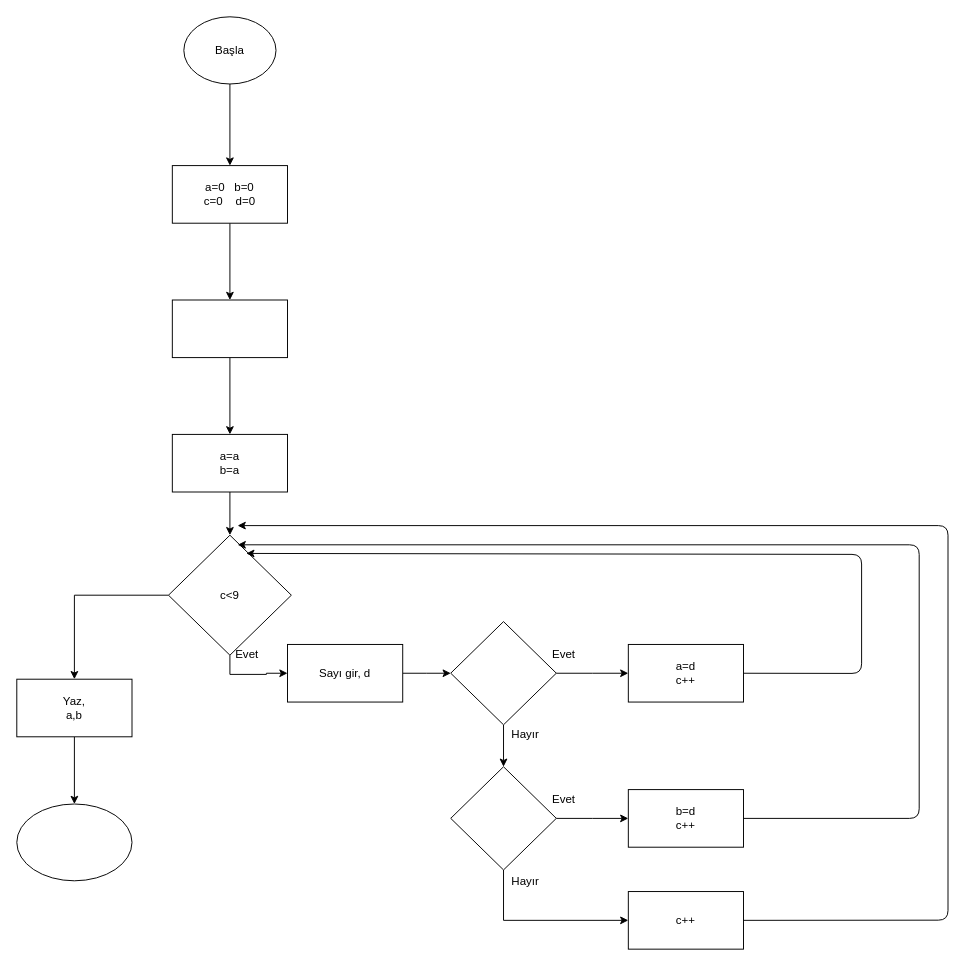
This 972x967 diagram has some shape labels left out. Here are the shapes that lost their labels. From the top down, the centre of each, then its label:
At pixel 229 328: "Sayı gir, a".
At pixel 503 673: "d>a".
At pixel 503 818: "b>d".
At pixel 74 842: "Son".
